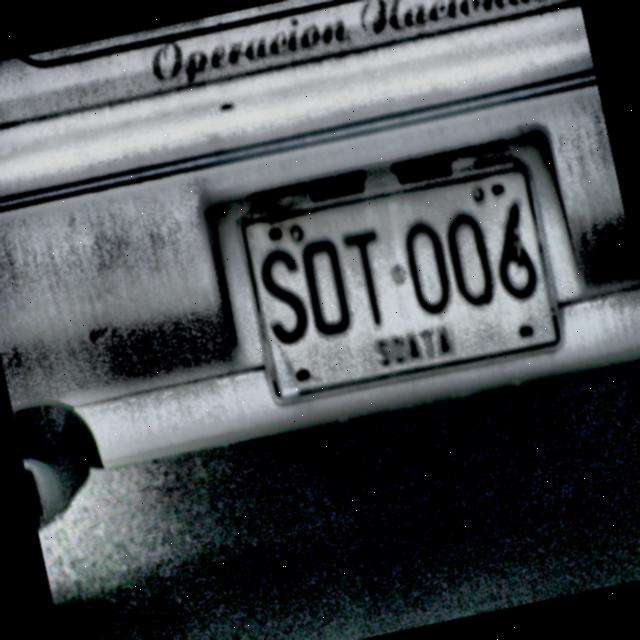plate: (235, 159, 566, 405)
